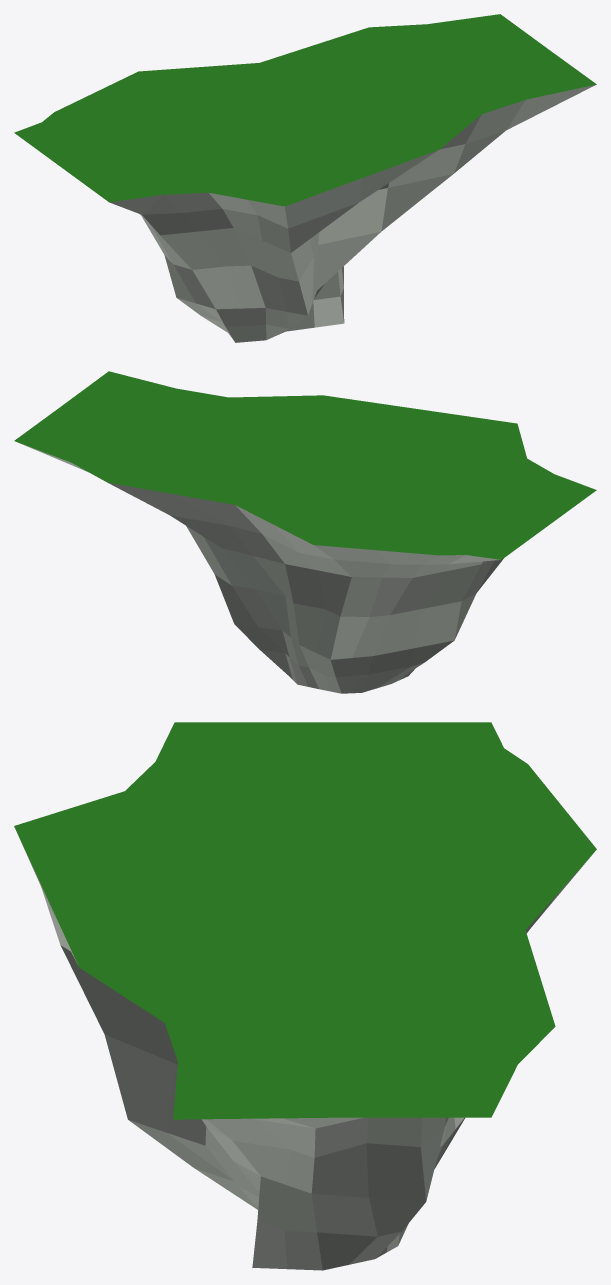
3 views of the same model, one above another, from view 1: azimuth 30°, elevation 25°; view 2: azimuth 150°, elevation 25°; view 3: azimuth 270°, elevation 25° (orthographic). The views are drawn at different scales.
Parts seen in each view (by area): view 1: Base02; view 2: Base02; view 3: Base02.
Boxes of the visible parts, x1,y1,x2,y2 form: Base02: (14,14,596,342); Base02: (14,371,596,693); Base02: (14,722,596,1270).
Bounding box in the file's own units: 118 × 46.7 × 73.58.
